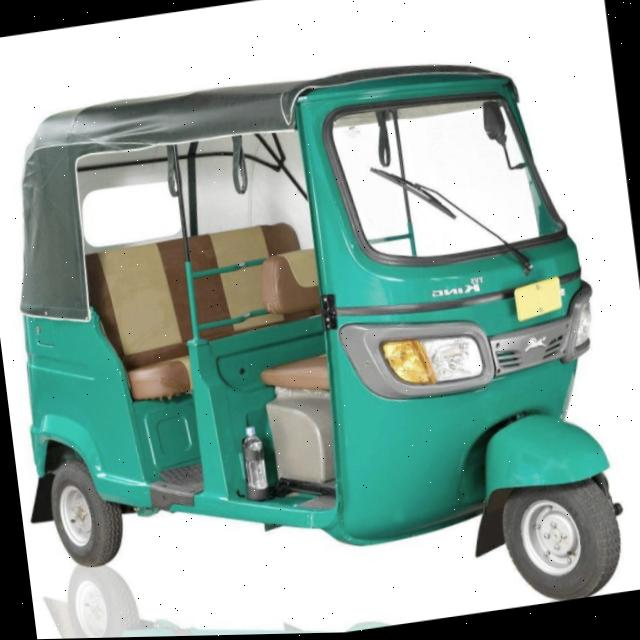cng: (1, 25, 600, 640)
